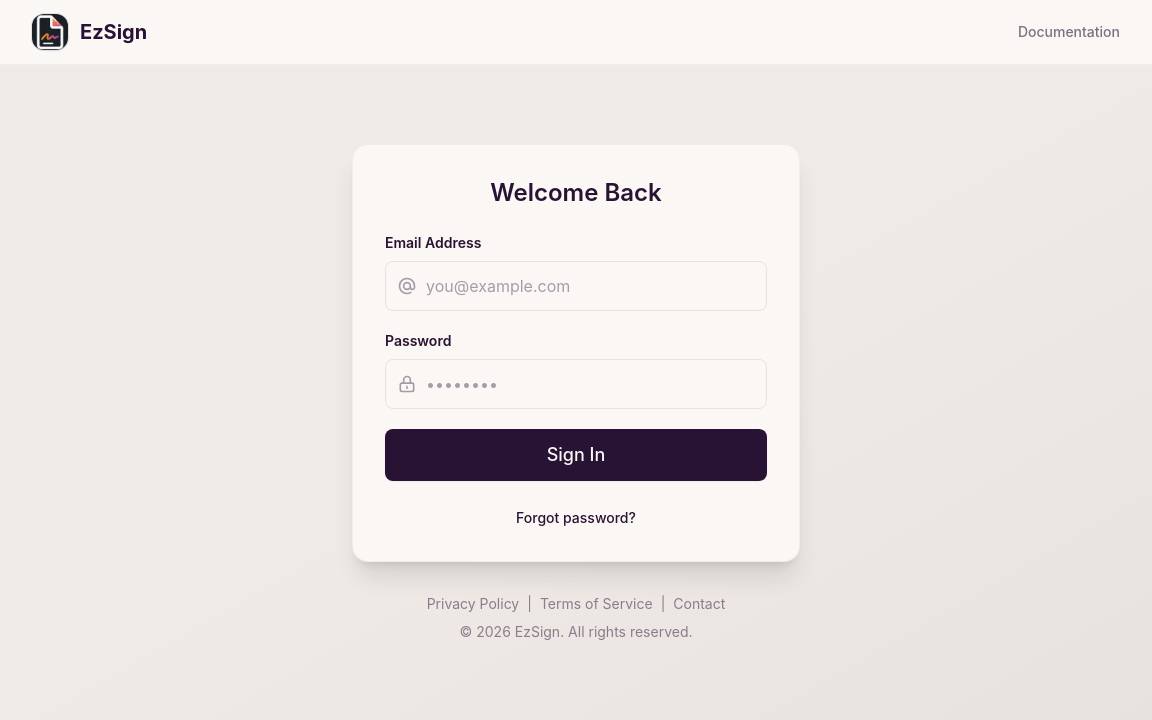
Test: Login - validation feedback › surfaces the required-password error through the app markup
Type "real@example.com" into the field with placeholder "you@example.com" at (576, 286), box [385,261,767,311]
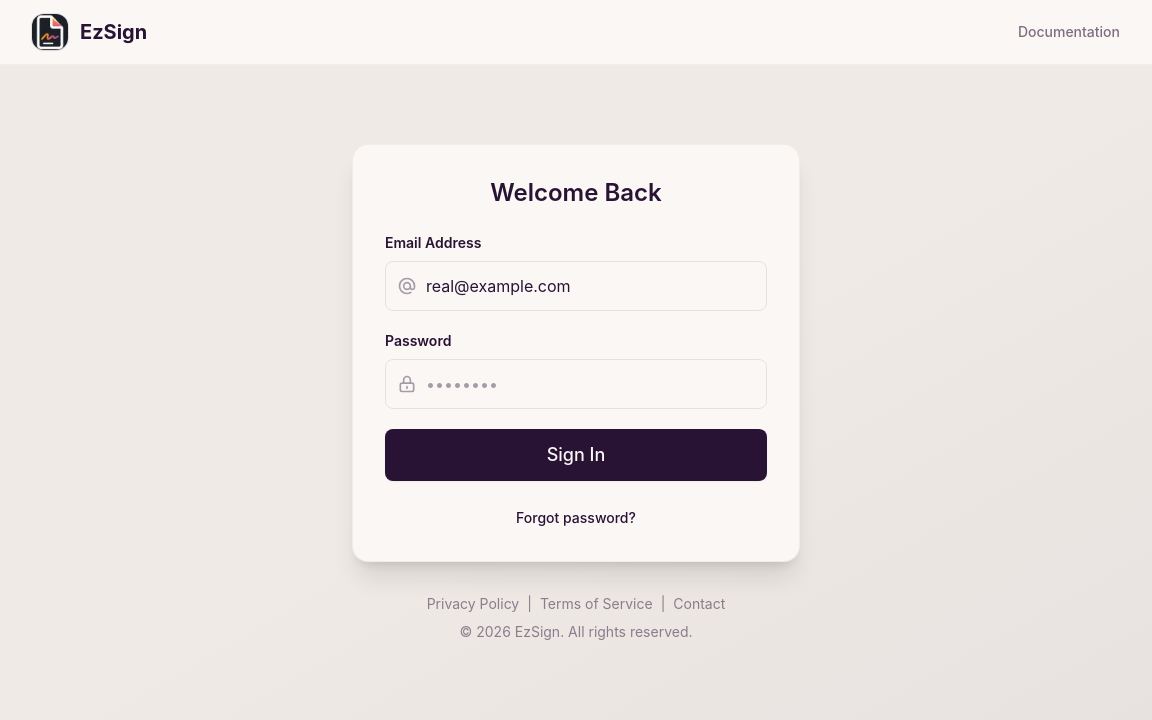
Click the button "Sign In" at (576, 455), box [385,429,767,481]
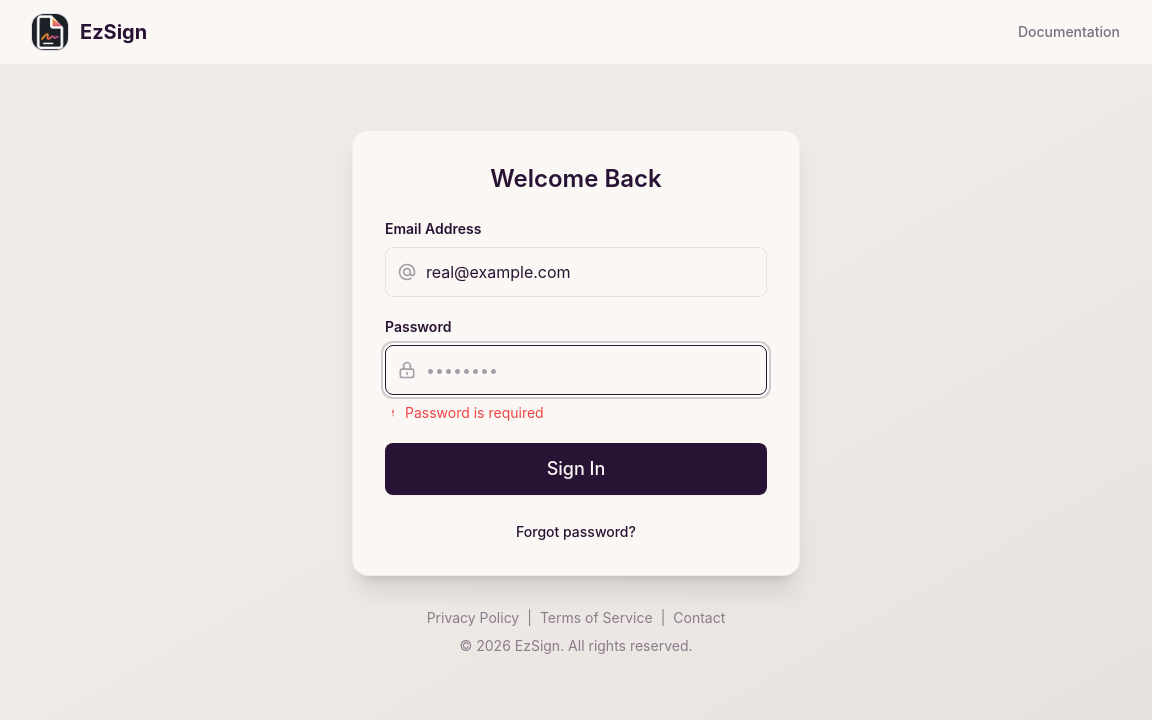
Check: the text "Password is required" is shown, box [385,404,544,421]
